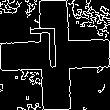L_S: (39, 29, 71, 81)
